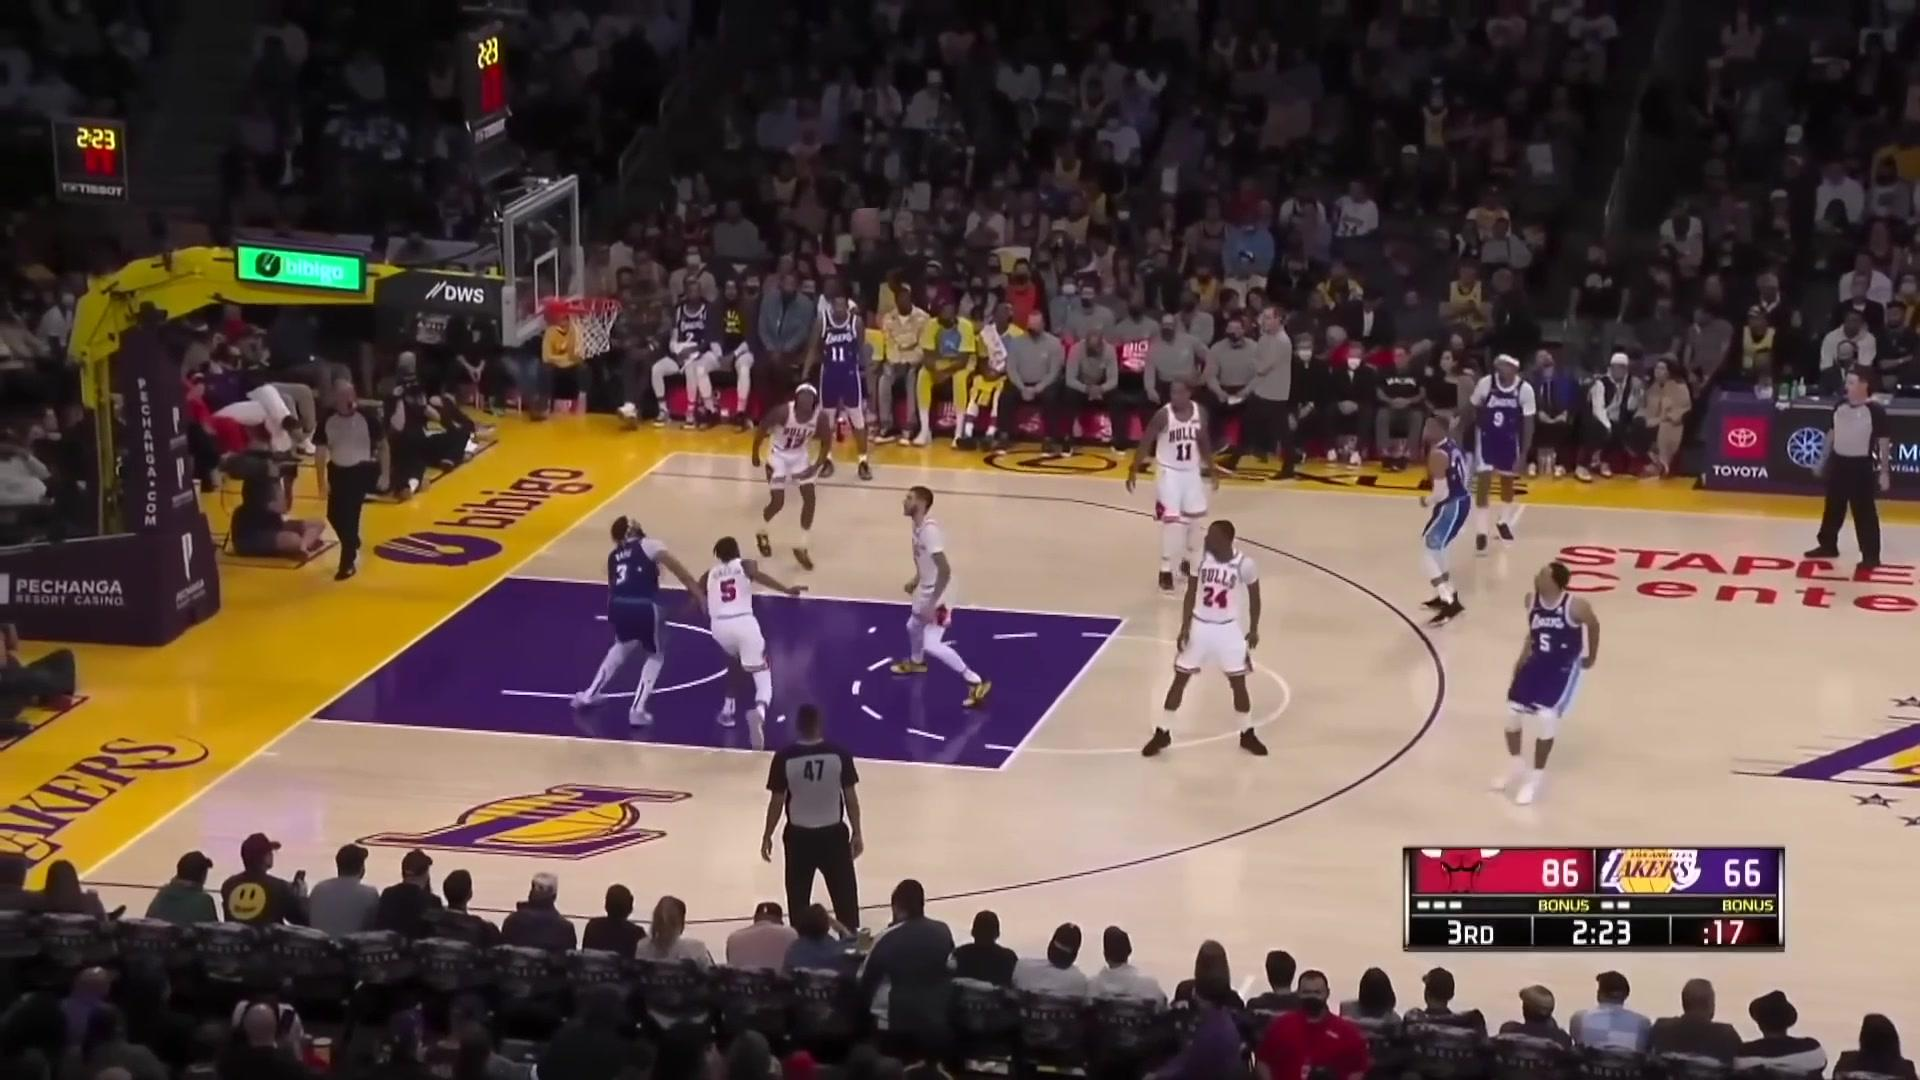no_foul: (575, 502, 818, 737)
